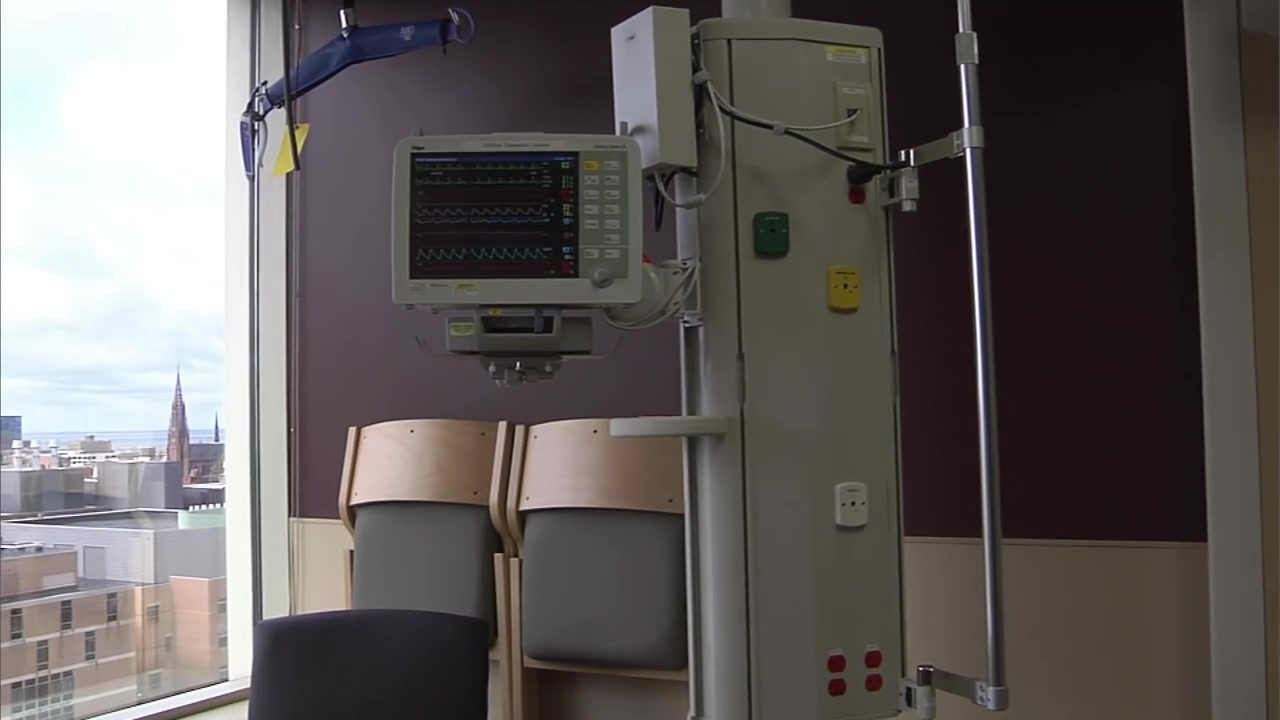bedside_monitor: (388, 131, 645, 309)
chair: (249, 610, 490, 720)
iv_pole: (956, 1, 1010, 720)
